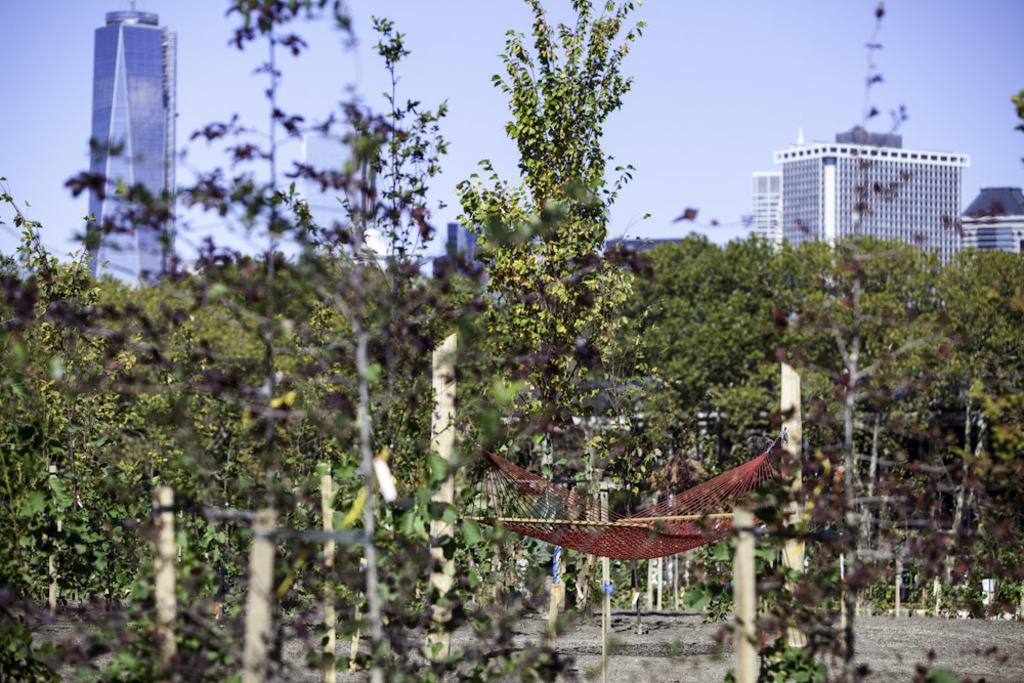Tree: (485, 17, 653, 283)
